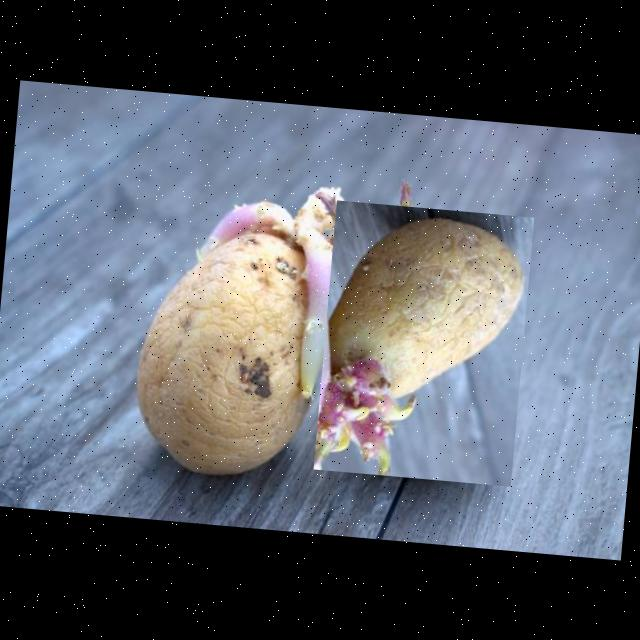Sprouted potato: (313, 200, 534, 486), (132, 218, 334, 496)
